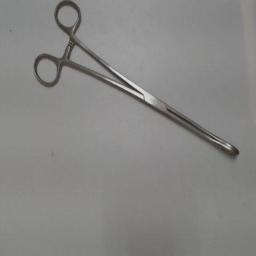Sponge Forceps: (28, 0, 242, 162)
